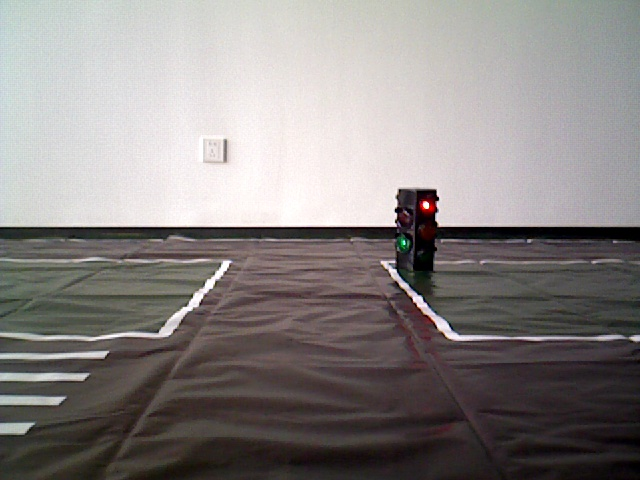red: (399, 189, 433, 277)
